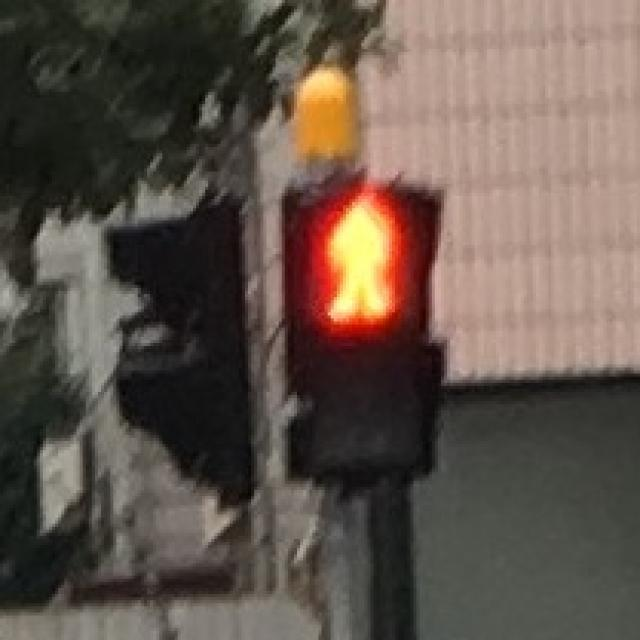red-crossing: (297, 187, 423, 340)
